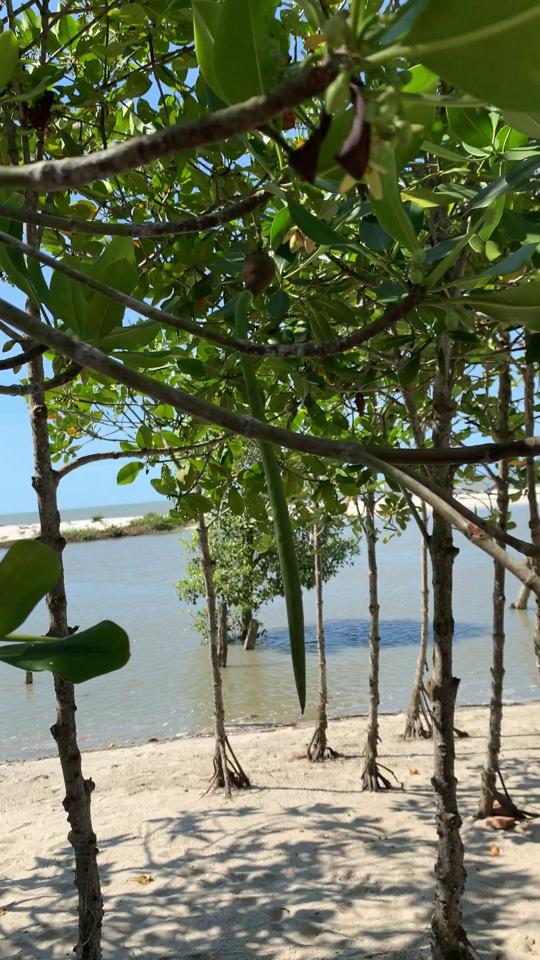setengah matang: (228, 226, 316, 726)
